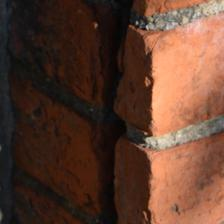Crack: (42, 6, 89, 213)
